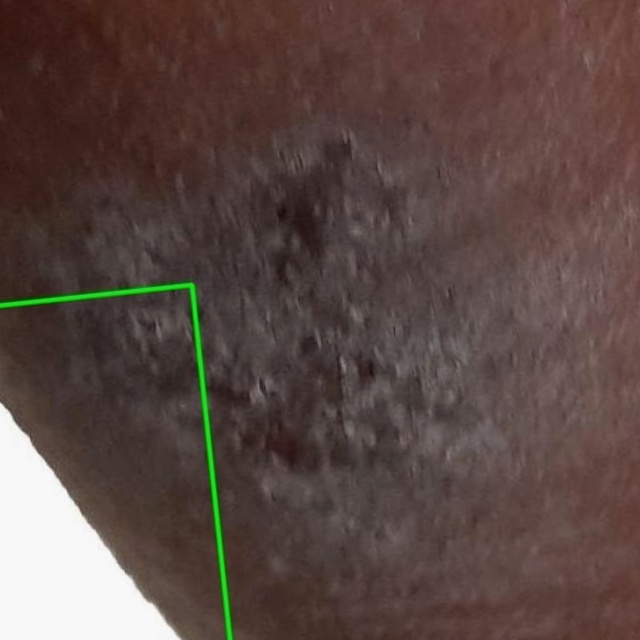Contact Dermatitis: (0, 284, 230, 639)
